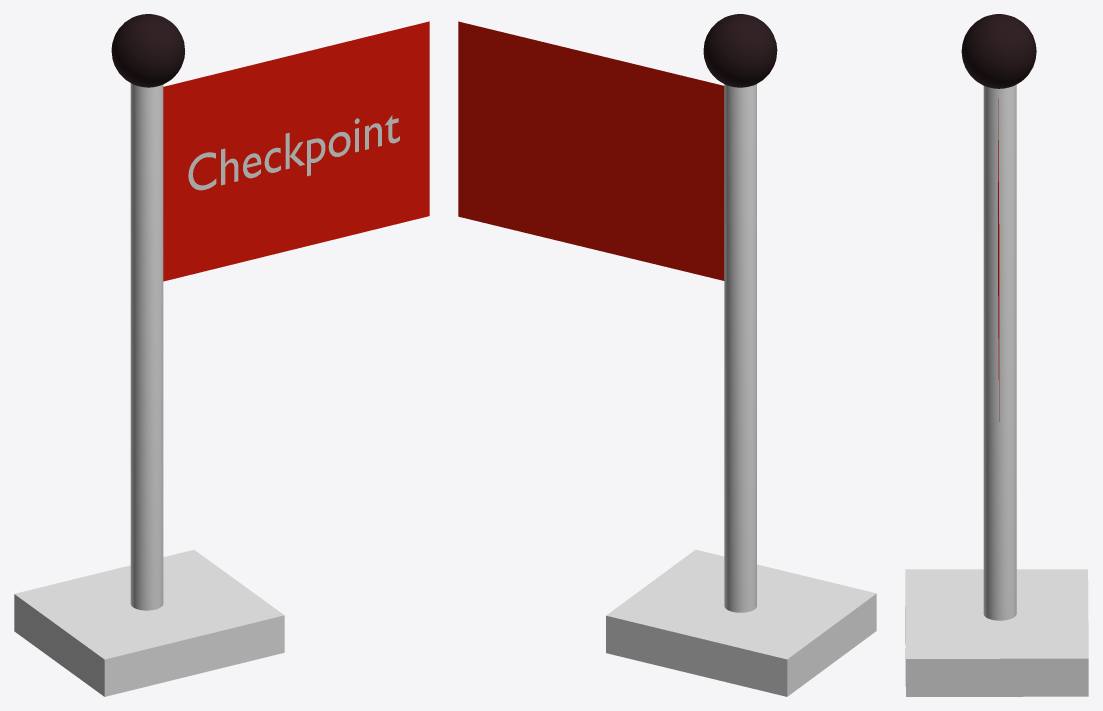
The model's file is checkpoint.fbx.
The picture shows the model from 3 angles, left to right: view 1: azimuth 30°, elevation 25°; view 2: azimuth 150°, elevation 25°; view 3: azimuth 270°, elevation 25°; orthographic projection.
Parts seen in each view (by area): view 1: Plane, Cube.001, Cylinder, Sphere, Text; view 2: Plane, Cube.001, Cylinder, Sphere; view 3: Cube.001, Cylinder, Sphere, Plane.
Boxes of the visible parts, bbox=[...] form: Plane: bbox=[163, 21, 429, 281]; Cube.001: bbox=[14, 550, 284, 696]; Cylinder: bbox=[130, 83, 163, 610]; Sphere: bbox=[111, 14, 184, 87]; Text: bbox=[188, 115, 399, 190]; Plane: bbox=[458, 21, 724, 280]; Cube.001: bbox=[606, 549, 876, 696]; Cylinder: bbox=[724, 84, 756, 612]; Sphere: bbox=[703, 14, 777, 87]; Cube.001: bbox=[905, 569, 1088, 696]; Cylinder: bbox=[983, 84, 1016, 620]; Sphere: bbox=[961, 14, 1036, 88]; Plane: bbox=[998, 98, 999, 421].
Bounding box in the file's own units: 189 × 303 × 79.32.
